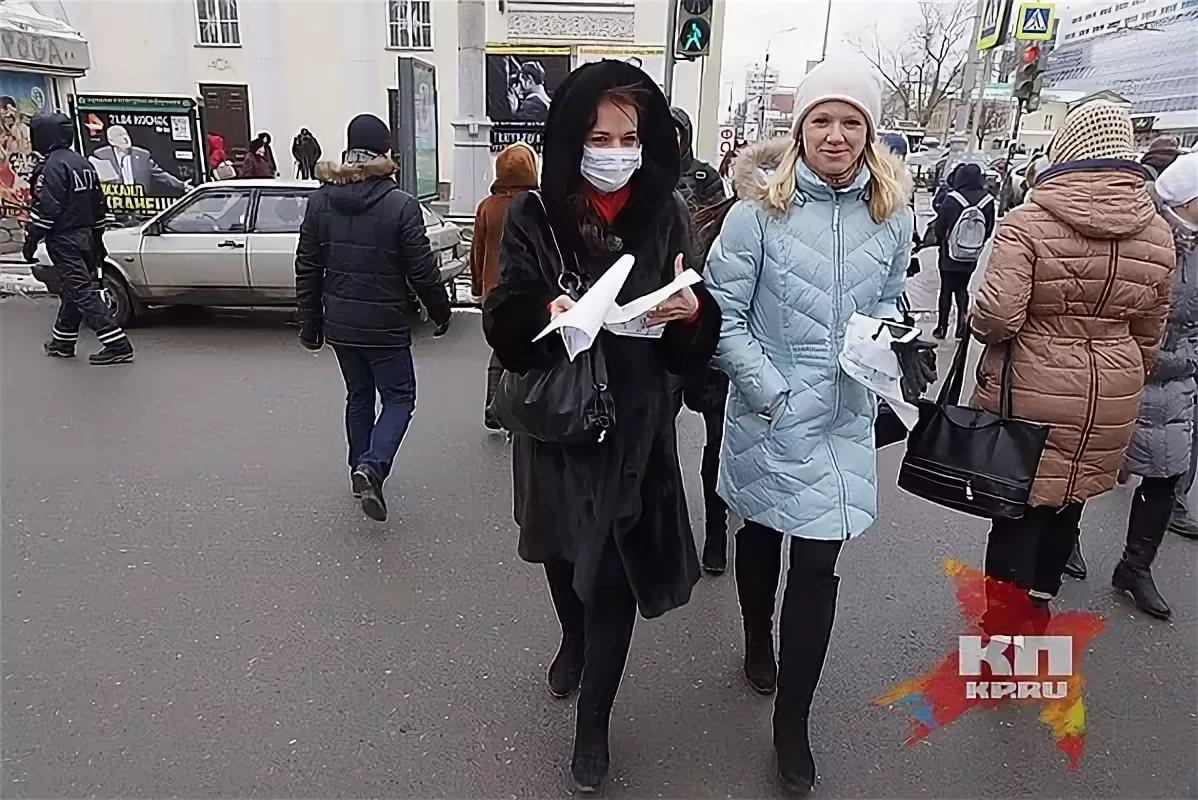mask: (580, 95, 643, 199)
none: (804, 93, 870, 174)
